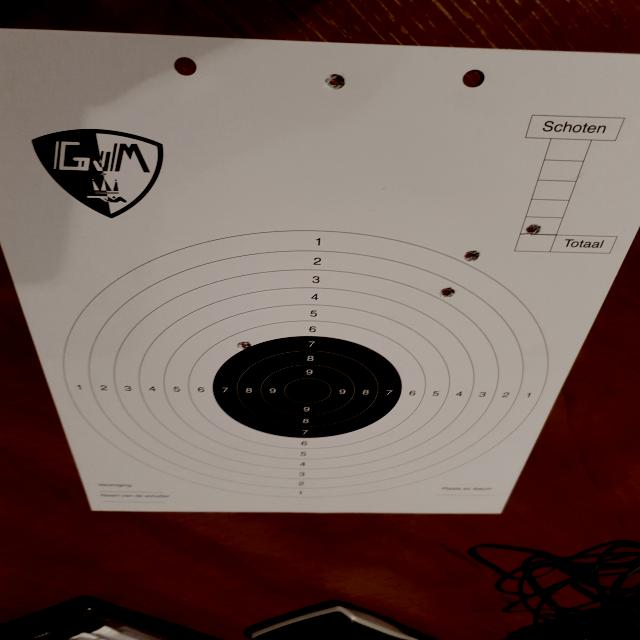0: (322, 73, 347, 90), (524, 223, 542, 236)
1: (461, 249, 482, 263)
2: (439, 286, 456, 300)
7: (235, 341, 255, 352)
Target: (60, 228, 551, 501)
black_contour: (213, 336, 401, 439)
